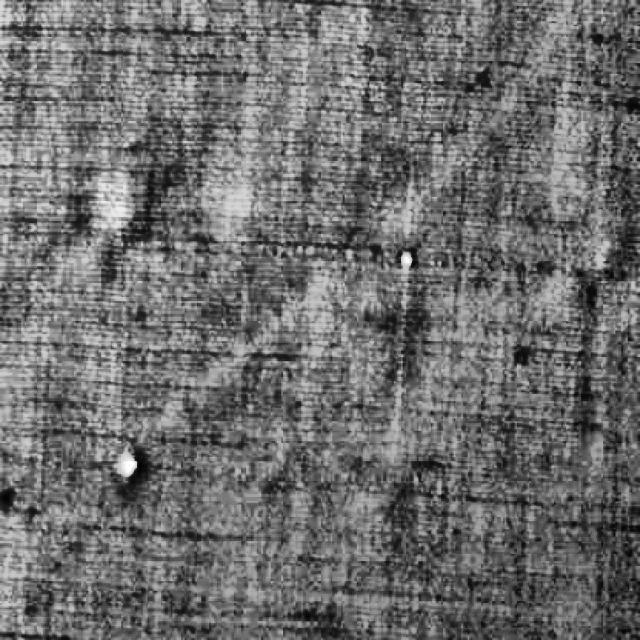hole: (113, 442, 146, 488), (394, 244, 421, 273)
